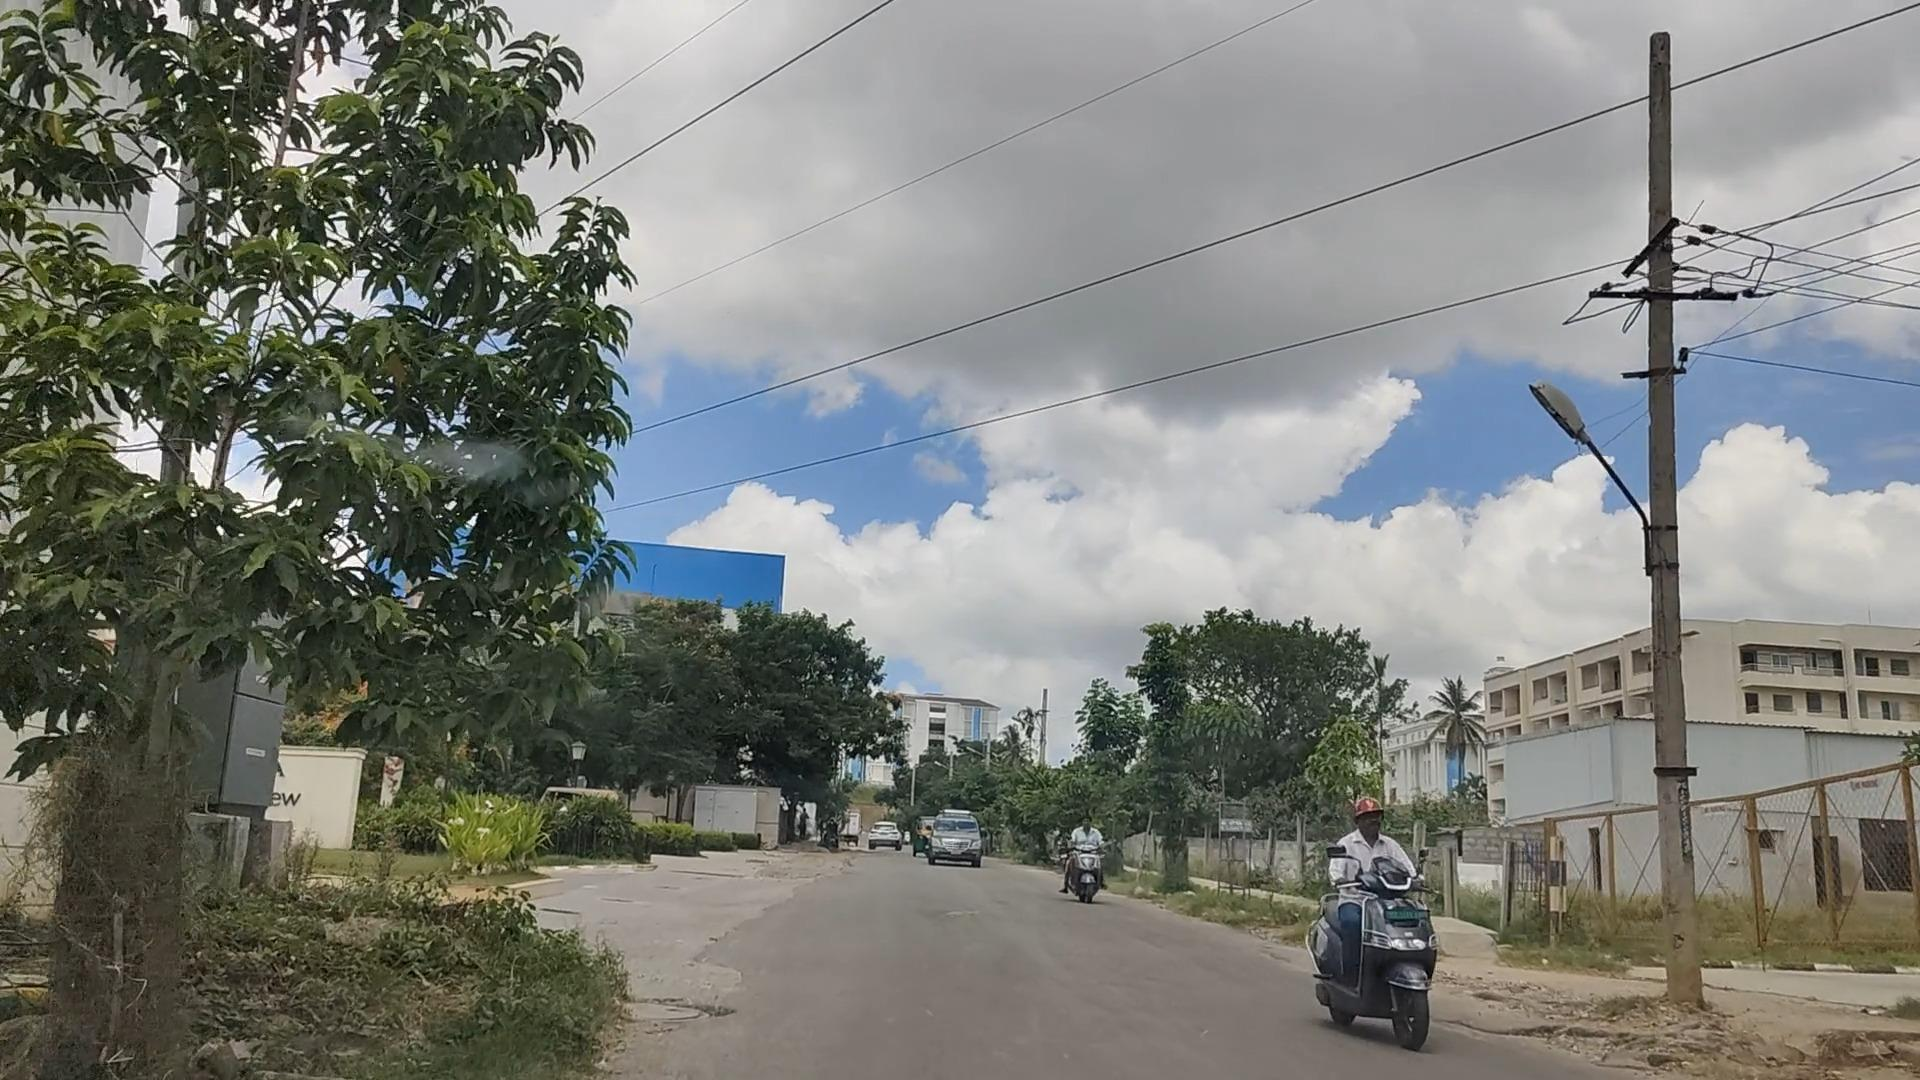RoadDamages: (629, 943, 781, 1047)
